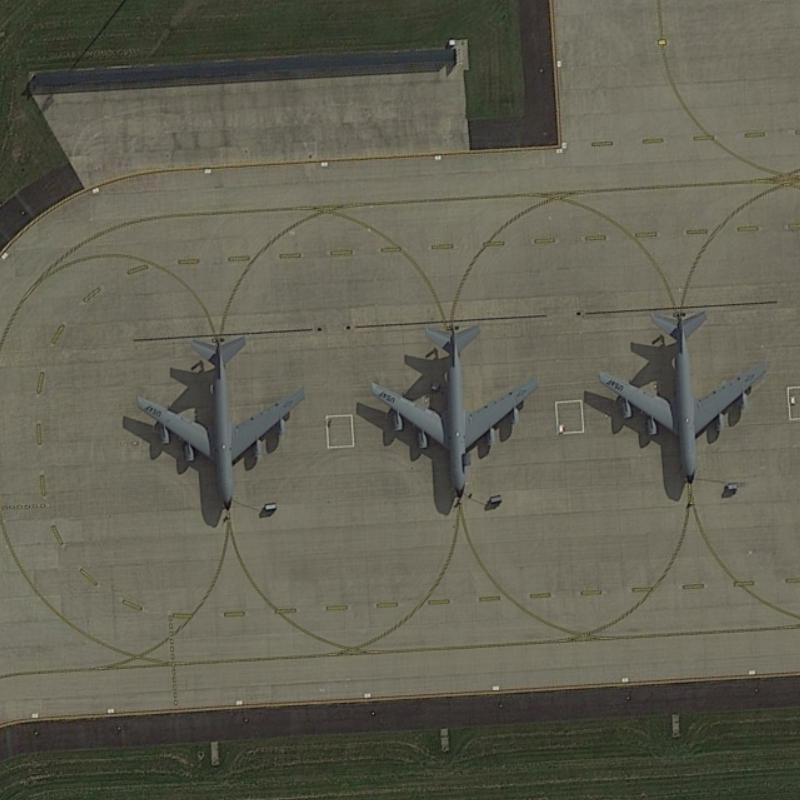A14: (592, 299, 773, 493), (126, 327, 307, 520), (364, 311, 542, 506)
